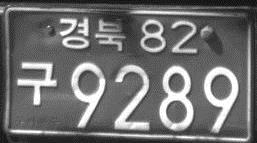2: (111, 62, 151, 134), (169, 18, 199, 56)
8: (158, 64, 195, 133), (138, 18, 166, 52)
9: (69, 59, 107, 130), (203, 65, 240, 135)
경북_O: (57, 15, 126, 51)
구: (15, 59, 58, 108)
